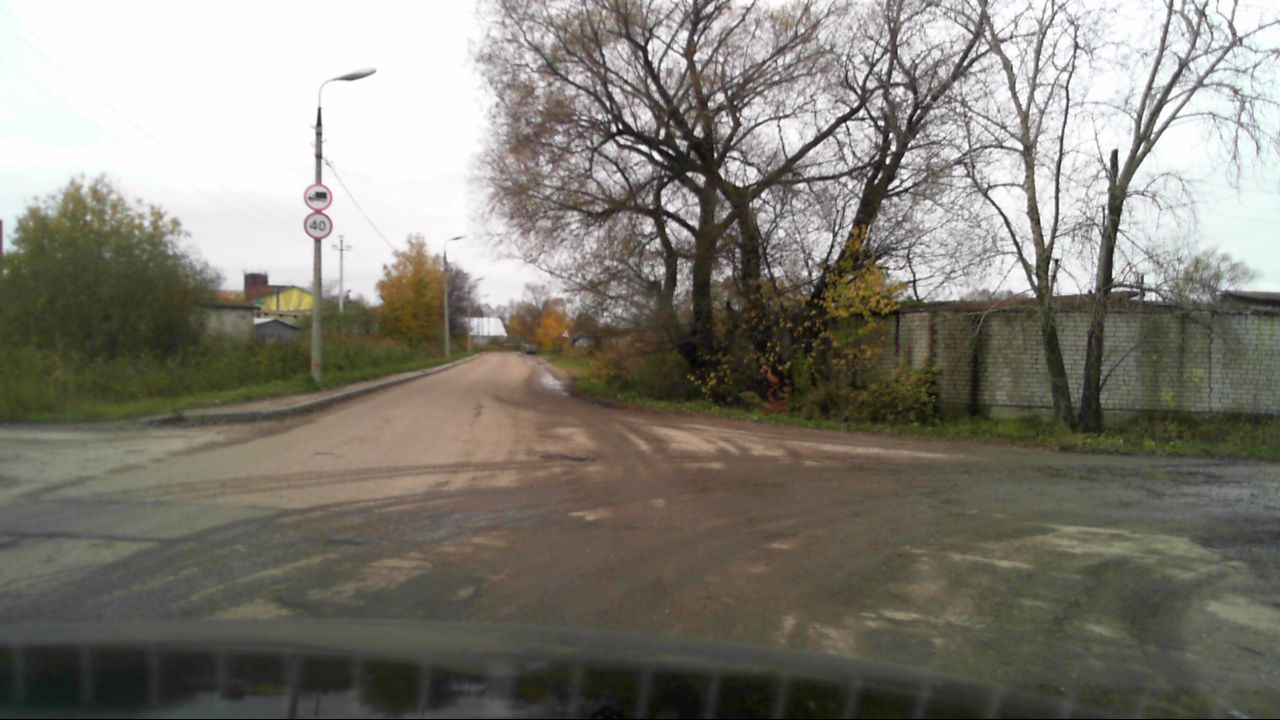speed_warning_40: (305, 212, 333, 238)
